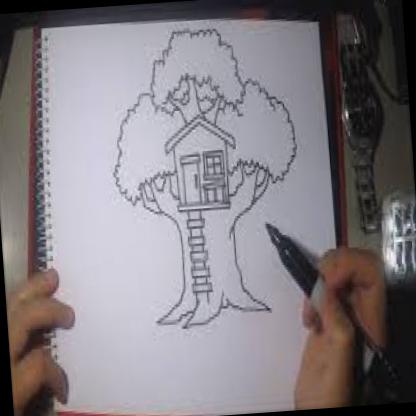root_only: (156, 293, 272, 331)
trunk_straight: (178, 228, 247, 293)
